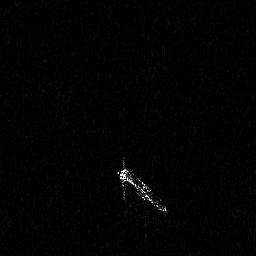ship: (115, 155, 169, 220)
